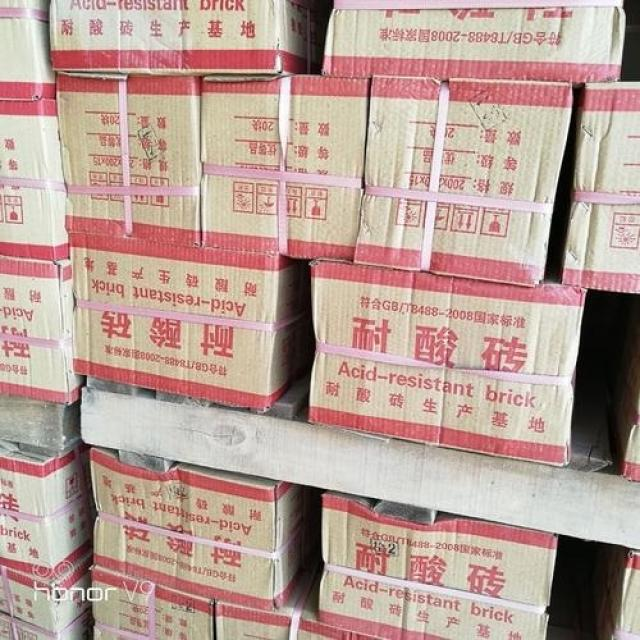box: (305, 261, 589, 465), (351, 79, 575, 288), (71, 230, 320, 408), (86, 444, 313, 608), (319, 493, 556, 637), (201, 75, 371, 260), (59, 70, 201, 248), (318, 1, 629, 82), (562, 81, 639, 294), (1, 439, 103, 582), (218, 554, 379, 638), (0, 253, 83, 403), (3, 93, 71, 257), (91, 561, 218, 639), (1, 560, 91, 630), (580, 541, 639, 639), (608, 300, 639, 482), (1, 1, 57, 96), (2, 612, 90, 639)
